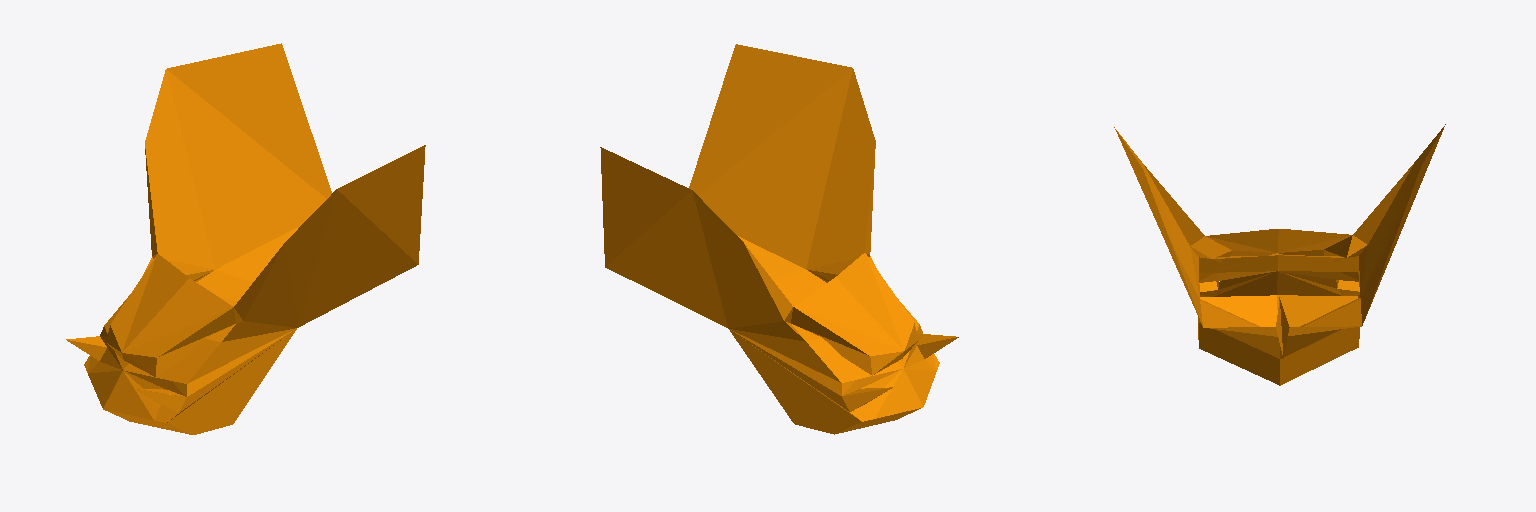
3 views of the same model, side by side, from view 1: azimuth 30°, elevation 25°; view 2: azimuth 150°, elevation 25°; view 3: azimuth 270°, elevation 25° (orthographic).
Visible parts, largest first — view 1: Mandibula:polySurface14; view 2: Mandibula:polySurface14; view 3: Mandibula:polySurface14.
Boxes of the visible parts, x1=… form: Mandibula:polySurface14: x1=66, y1=43, x2=425, y2=434; Mandibula:polySurface14: x1=600, y1=44, x2=958, y2=434; Mandibula:polySurface14: x1=1114, y1=124, x2=1445, y2=385.
Bounding box in the file's own units: 0.4271 × 0.3544 × 0.3879.
1 materials, 1 textured.